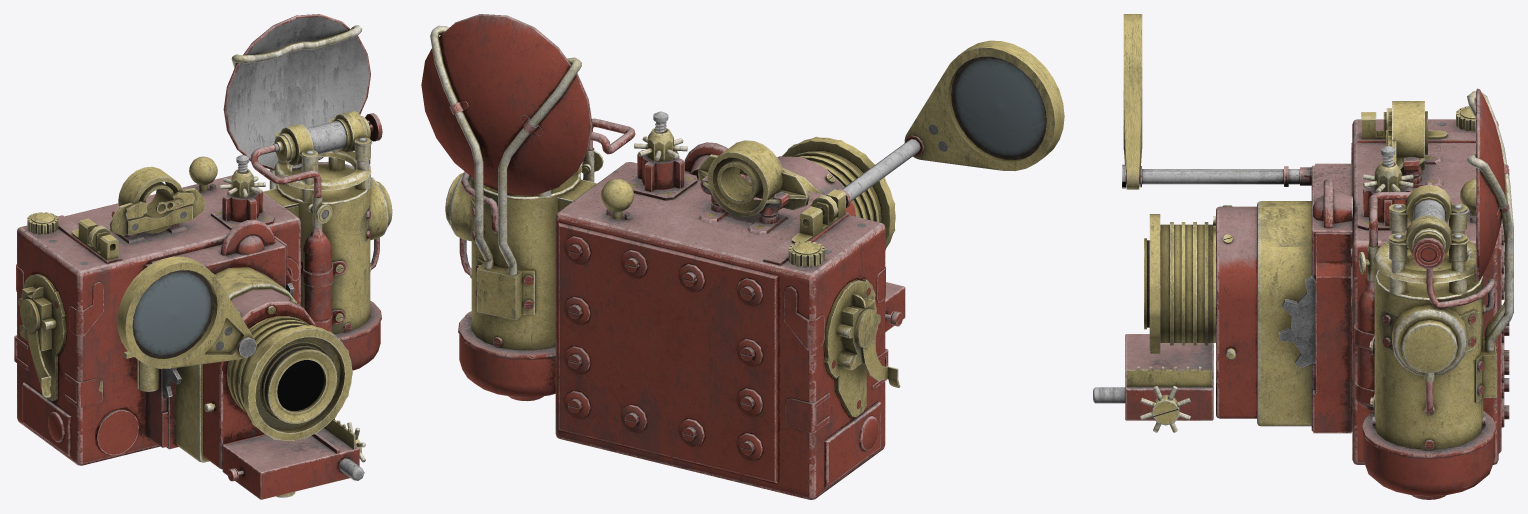
The model's file is steampunk_camera.glb.
The picture shows the model from 3 angles, left to right: view 1: azimuth 30°, elevation 25°; view 2: azimuth 150°, elevation 25°; view 3: azimuth 270°, elevation 25°; orthographic projection. The views are drawn at different scales.
Parts seen in each view (by area): view 1: Body, Mirror, Lense, LenseMag, HousingFront, Light_Base, LatchSide, Top_Deco, Top_Deco1, Light_Mount, Steam_tank, Bottom_Block (+5 smaller); view 2: Body, Mirror, LenseMag, Light_Base, LatchSide, Top_Deco1, Top_Deco, Lense, Brackets, Pressure_Guage, HousingFront, Steam_tank; view 3: Light_Base, HousingFront, Body, Lense, Outer_Brackets, Mirror, Light_Mount, LenseMag, Pressure_Guage, Top_Deco1, Bottom_Block, Top_Deco (+3 smaller).
Boxes of the visible parts, x1=… form: Body: x1=17, y1=175, x2=300, y2=465; Mirror: x1=223, y1=14, x2=370, y2=189; Lense: x1=226, y1=316, x2=352, y2=441; LenseMag: x1=117, y1=256, x2=256, y2=368; HousingFront: x1=176, y1=267, x2=315, y2=469; Light_Base: x1=263, y1=113, x2=382, y2=370; LatchSide: x1=18, y1=274, x2=71, y2=456; Top_Deco: x1=27, y1=155, x2=365, y2=462; Top_Deco1: x1=27, y1=155, x2=275, y2=259; Light_Mount: x1=274, y1=111, x2=372, y2=202; Steam_tank: x1=250, y1=141, x2=346, y2=331; Bottom_Block: x1=222, y1=418, x2=363, y2=499; Body: x1=555, y1=162, x2=885, y2=499; Mirror: x1=421, y1=14, x2=592, y2=320; LenseMag: x1=837, y1=40, x2=1064, y2=207; Light_Base: x1=458, y1=171, x2=597, y2=401; LatchSide: x1=824, y1=279, x2=900, y2=487; Top_Deco1: x1=600, y1=111, x2=845, y2=266; Top_Deco: x1=602, y1=111, x2=844, y2=267; Lense: x1=782, y1=136, x2=895, y2=250; Brackets: x1=784, y1=266, x2=888, y2=433; Pressure_Guage: x1=445, y1=172, x2=484, y2=278; HousingFront: x1=746, y1=156, x2=856, y2=216; Steam_tank: x1=581, y1=118, x2=635, y2=182; Light_Base: x1=1361, y1=238, x2=1496, y2=499; HousingFront: x1=1213, y1=201, x2=1311, y2=426; Body: x1=1311, y1=119, x2=1509, y2=464; Lense: x1=1144, y1=214, x2=1215, y2=353; Outer_Brackets: x1=1313, y1=163, x2=1352, y2=433; Mirror: x1=1467, y1=88, x2=1513, y2=402; Light_Mount: x1=1373, y1=184, x2=1476, y2=294; LenseMag: x1=1122, y1=14, x2=1311, y2=189; Pressure_Guage: x1=1378, y1=305, x2=1481, y2=416; Top_Deco1: x1=1314, y1=101, x2=1476, y2=228; Bottom_Block: x1=1093, y1=334, x2=1212, y2=425; Top_Deco: x1=1140, y1=107, x2=1476, y2=432.
Bounding box in the file's own units: 0.3056 × 0.2539 × 0.2427.
Materials: 3 (3 with a texture image).
